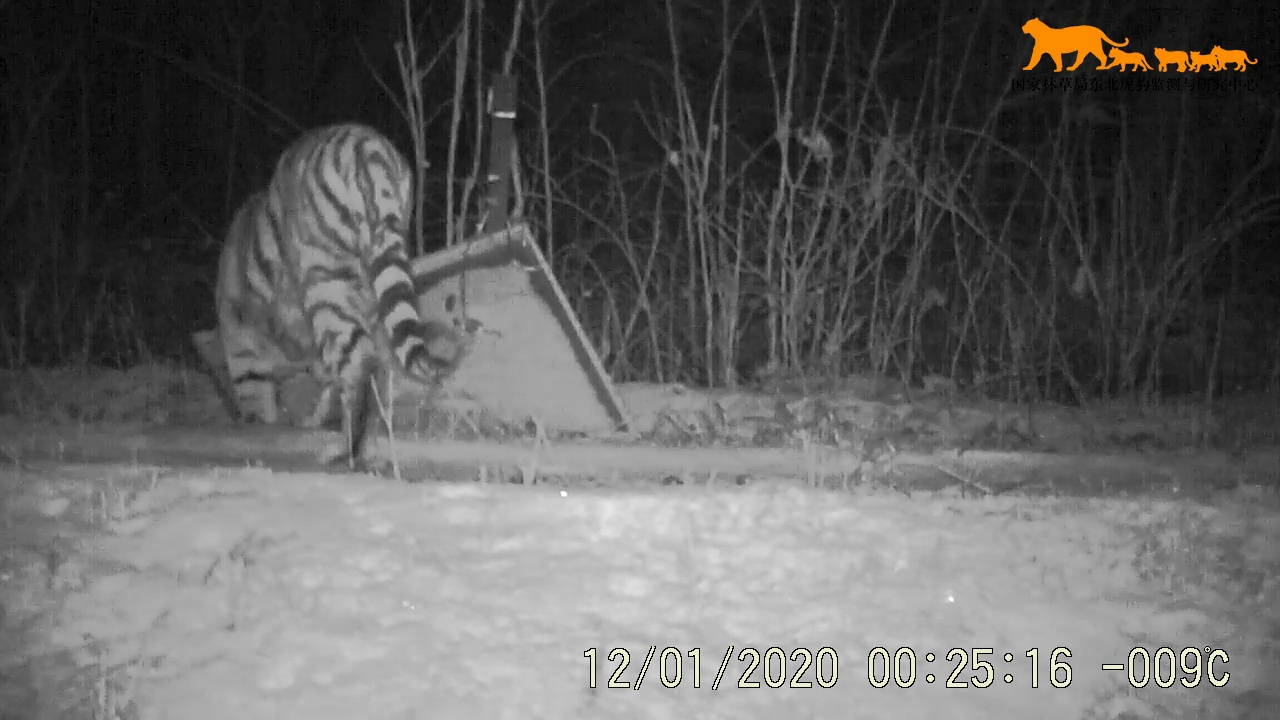Tiger: (182, 96, 590, 514)
